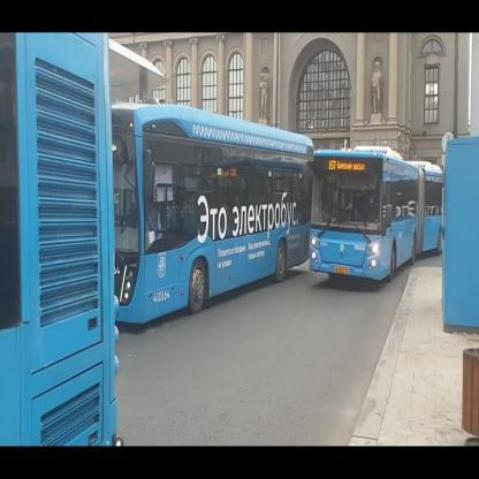bus: (115, 103, 313, 327), (312, 149, 444, 280)
